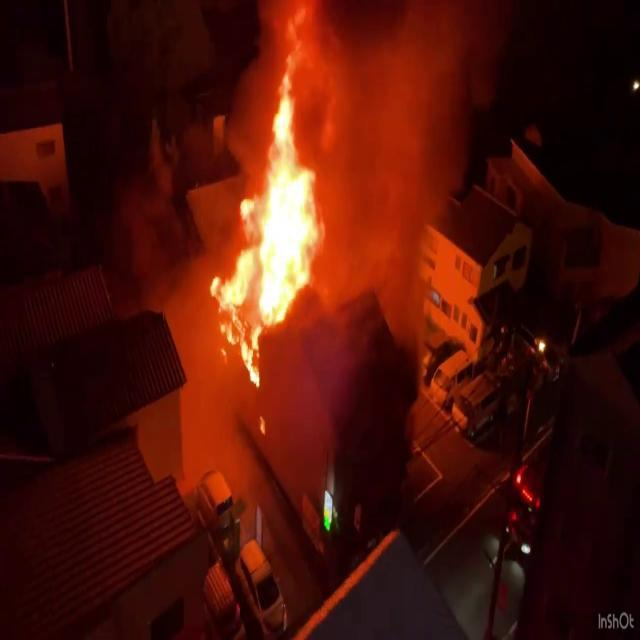Fire: (204, 29, 342, 383)
Smoke: (311, 0, 495, 303)
